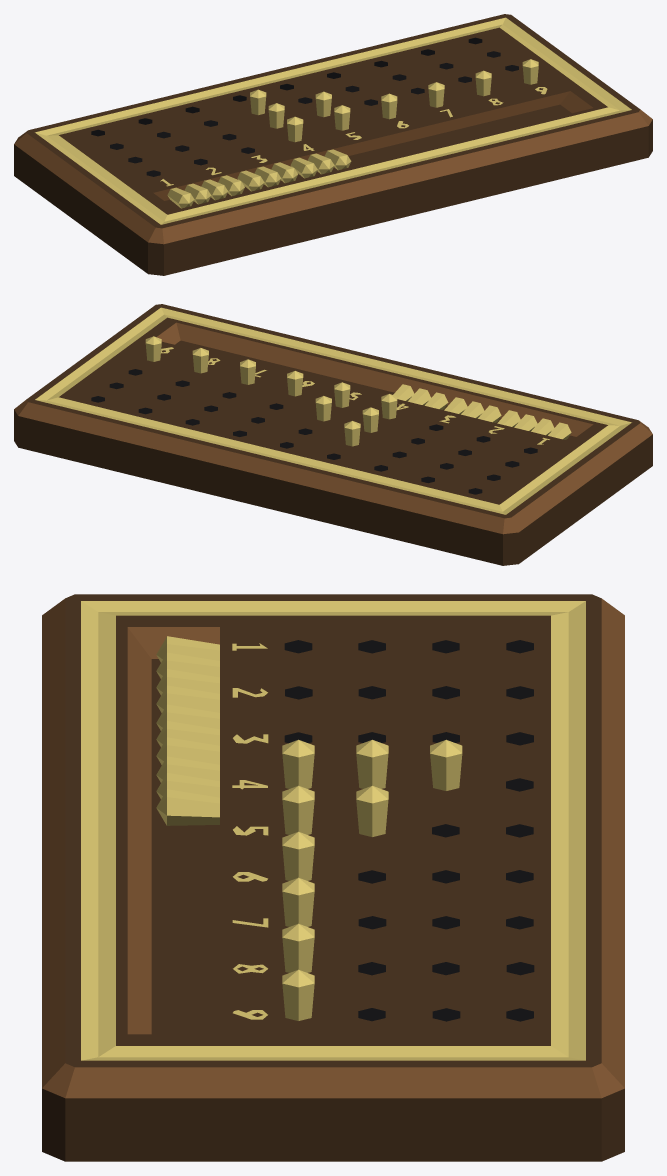
The model's file is spell-slot-tracker-2314dd.glb.
The picture shows the model from 3 angles, top to bottom: view 1: azimuth 30°, elevation 25°; view 2: azimuth 150°, elevation 25°; view 3: azimuth 270°, elevation 25°; orthographic projection. The views are drawn at different scales.
Parts seen in each view (by area): view 1: board, board-gold; view 2: board, board-gold; view 3: board, board-gold.
Part boxes in pixels (x1,y1,x2,y2): board: [14, 14, 652, 275]; board-gold: [35, 17, 631, 224]; board: [14, 304, 652, 565]; board-gold: [35, 307, 631, 514]; board: [42, 594, 624, 1161]; board-gold: [81, 601, 585, 1060].
Size of the model in its own units: 0.15 by 0.0184 by 0.075.
